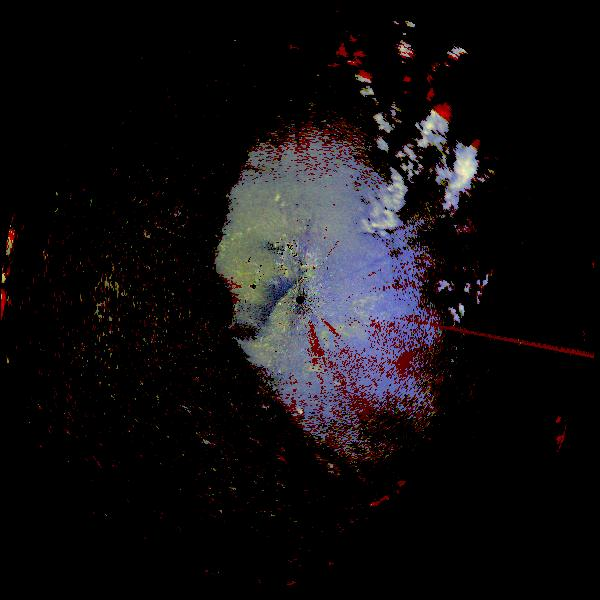roost: (292, 359, 331, 398)
